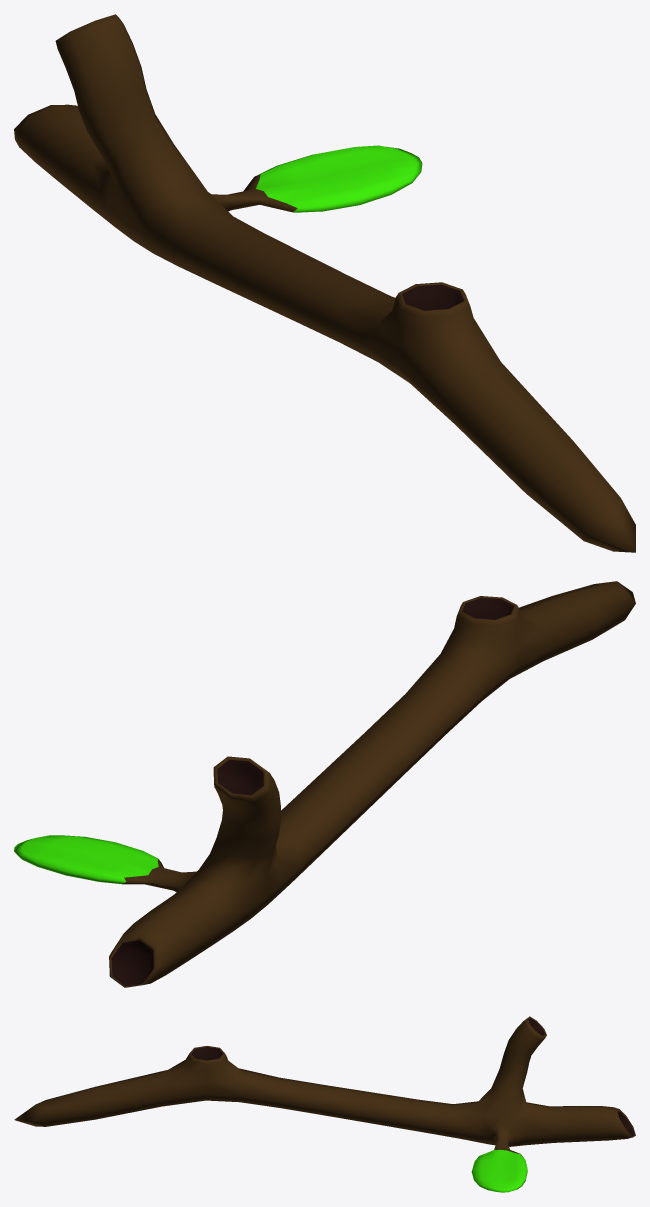
File: stick.fbx
The picture shows the model from 3 angles, top to bottom: view 1: azimuth 30°, elevation 25°; view 2: azimuth 150°, elevation 25°; view 3: azimuth 270°, elevation 25°; orthographic projection. The views are drawn at different scales.
Visible parts, largest first — view 1: Cube; view 2: Cube; view 3: Cube.
Boxes of the visible parts, box(x1,y1,x2,y2) form: Cube: box(14, 14, 635, 552); Cube: box(14, 581, 635, 987); Cube: box(14, 1016, 635, 1192).
Bounding box in the file's own units: 423 × 267 × 1338.
